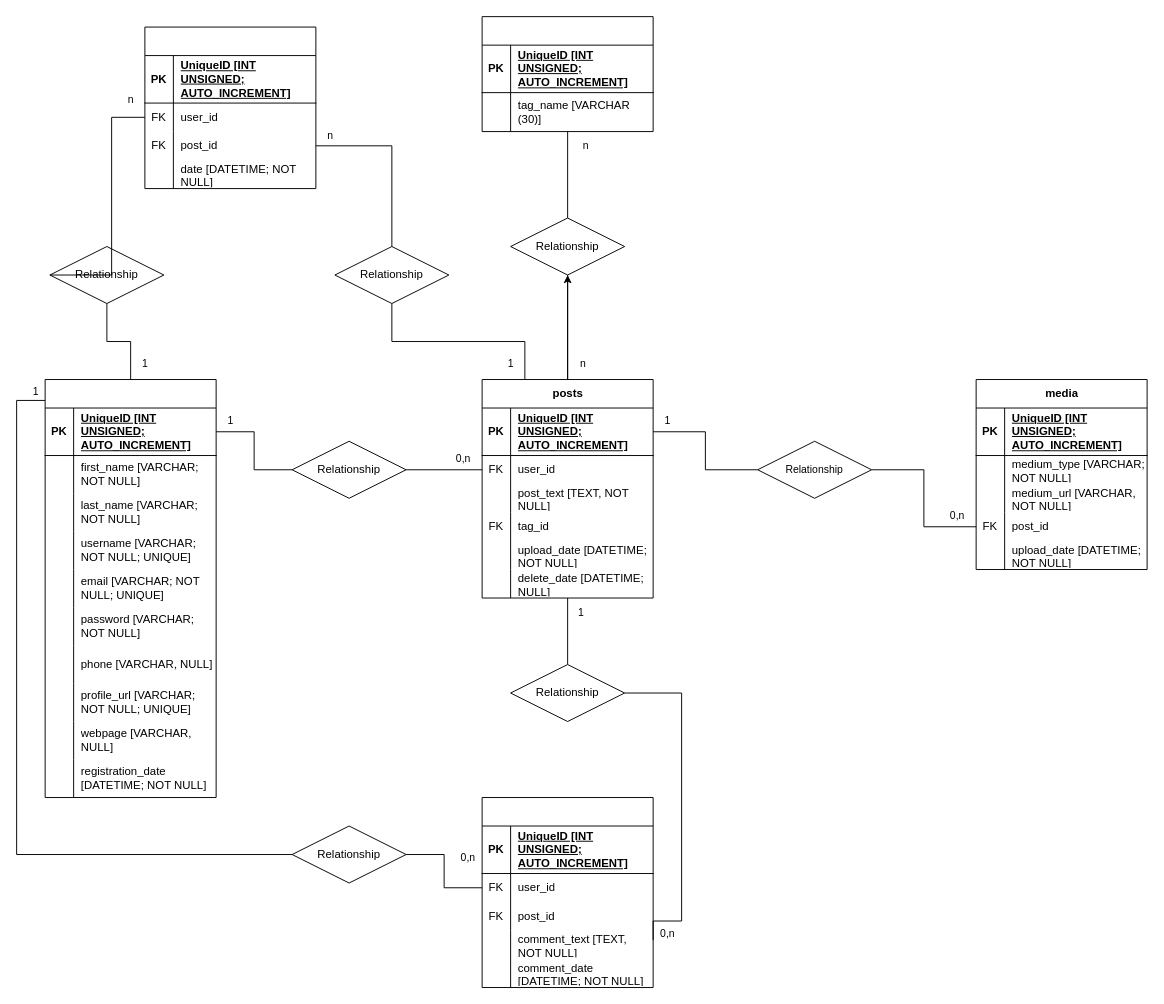
This 1164x1004 diagram has some shape labels left out. Each missing label, with the box of its shape:
comments: (481, 797, 653, 988)
likes: (144, 26, 316, 189)
tags: (481, 16, 653, 132)
users: (44, 379, 216, 798)
